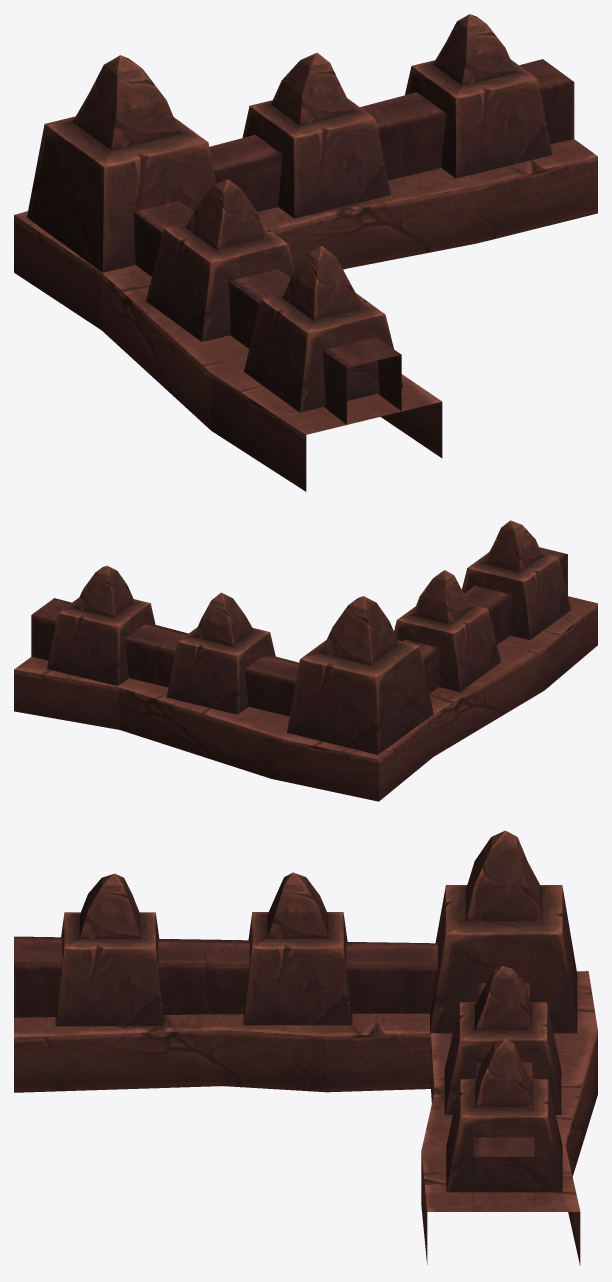
The model's file is lava_railing_concave_01.fbx.
The picture shows the model from 3 angles, top to bottom: view 1: azimuth 30°, elevation 25°; view 2: azimuth 150°, elevation 25°; view 3: azimuth 270°, elevation 25°; orthographic projection. The views are drawn at different scales.
Visible parts, largest first — view 1: obj1.018; view 2: obj1.018; view 3: obj1.018.
Boxes of the visible parts, x1,y1,x2,y2 form: obj1.018: (14,14,597,491); obj1.018: (14,520,597,801); obj1.018: (14,830,597,1265).
Size of the model in its own units: 4.73 by 2.07 by 4.77.
